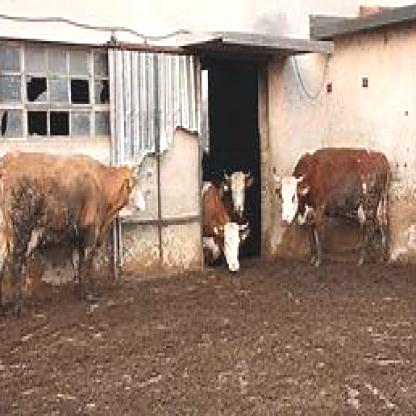cow: (0, 152, 149, 308), (272, 145, 392, 266), (201, 181, 250, 271), (223, 167, 254, 218)
